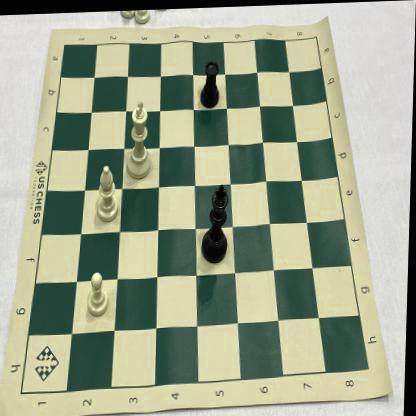black-king: (201, 180, 233, 265)
black-rook: (199, 58, 222, 110)
white-bishop: (96, 161, 122, 221)
white-king: (127, 94, 156, 180)
white-pawn: (87, 266, 111, 317)
